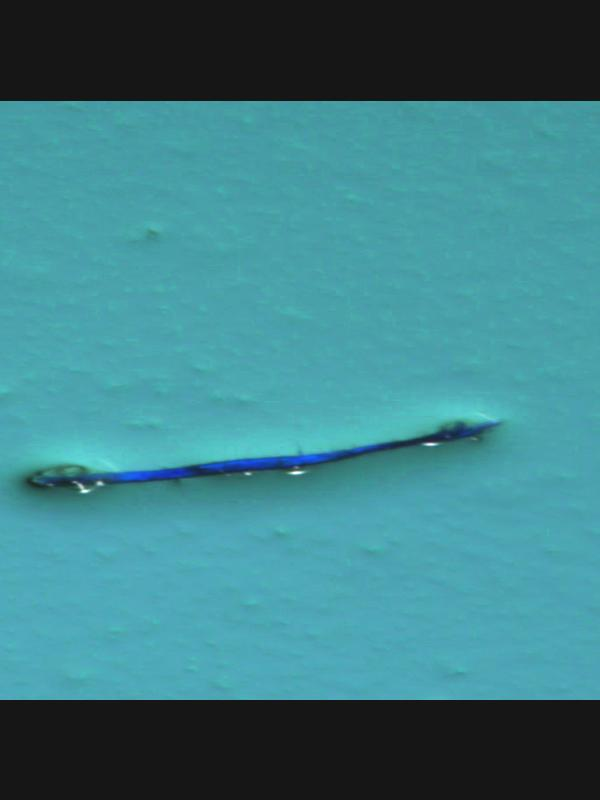microplastic: (24, 418, 503, 494)
